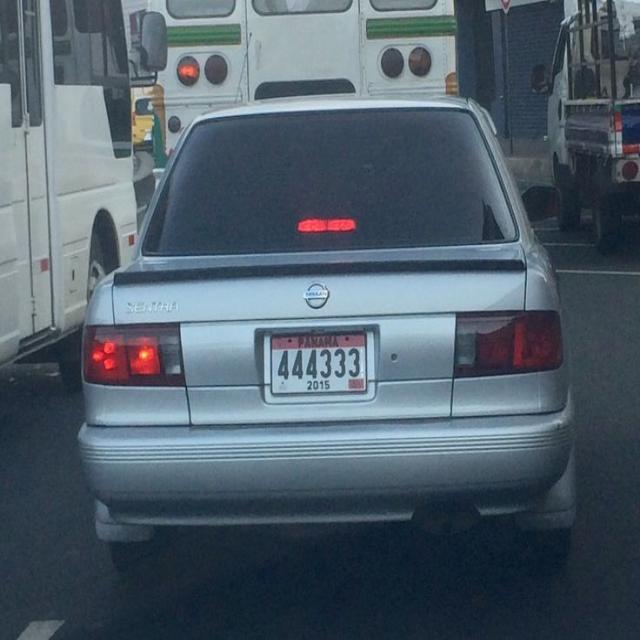Placas: (260, 325, 376, 403)
